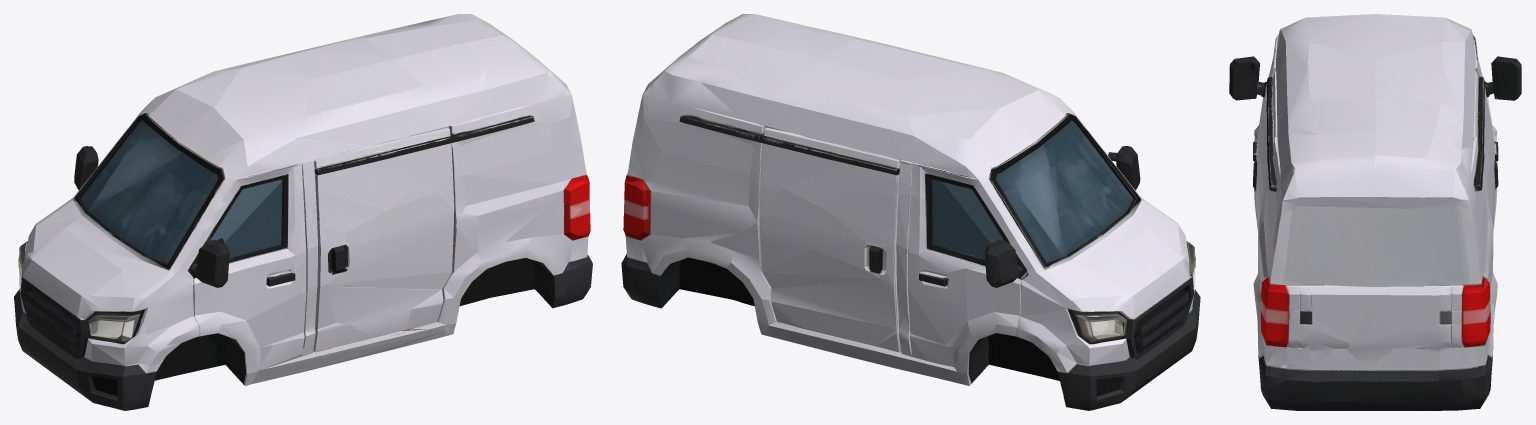
Rendered from furgoneta.glb.
The picture shows the model from 3 angles, left to right: view 1: azimuth 30°, elevation 25°; view 2: azimuth 150°, elevation 25°; view 3: azimuth 270°, elevation 25°; orthographic projection. The views are drawn at different scales.
Size of the model in its own units: 1.9 by 0.8606 by 0.9417.
1 material, 1 textured.
